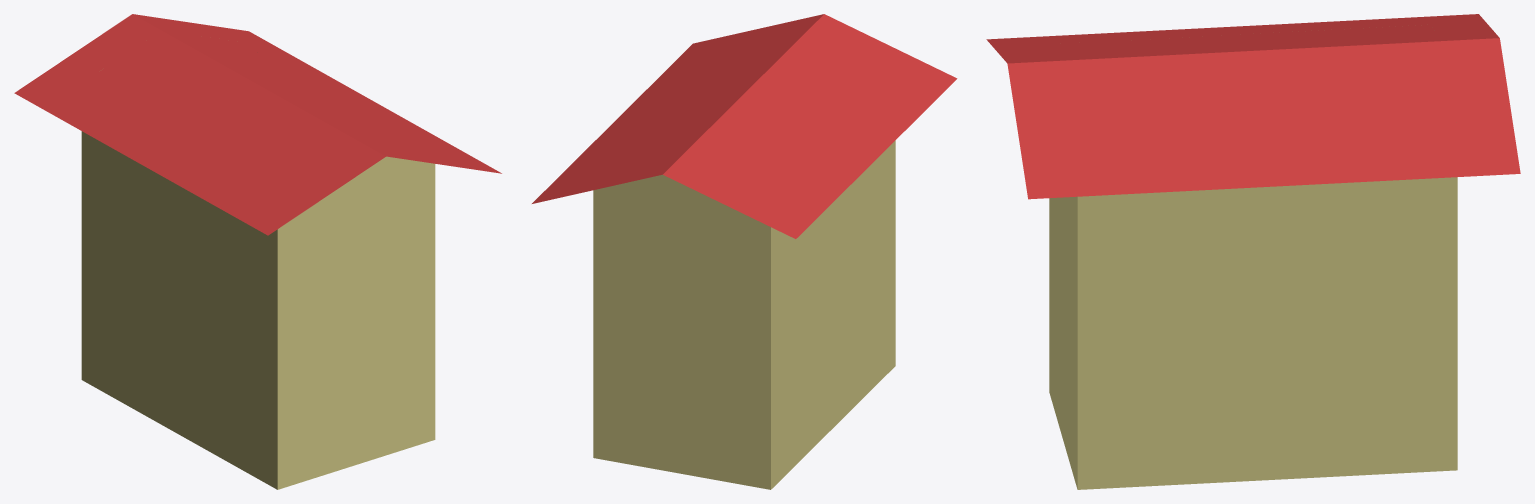
3 views of the same model, side by side, from view 1: azimuth 30°, elevation 25°; view 2: azimuth 150°, elevation 25°; view 3: azimuth 270°, elevation 25° (orthographic). The views are drawn at different scales.
Size of the model in its own units: 7.1 by 9.42 by 7.41.
